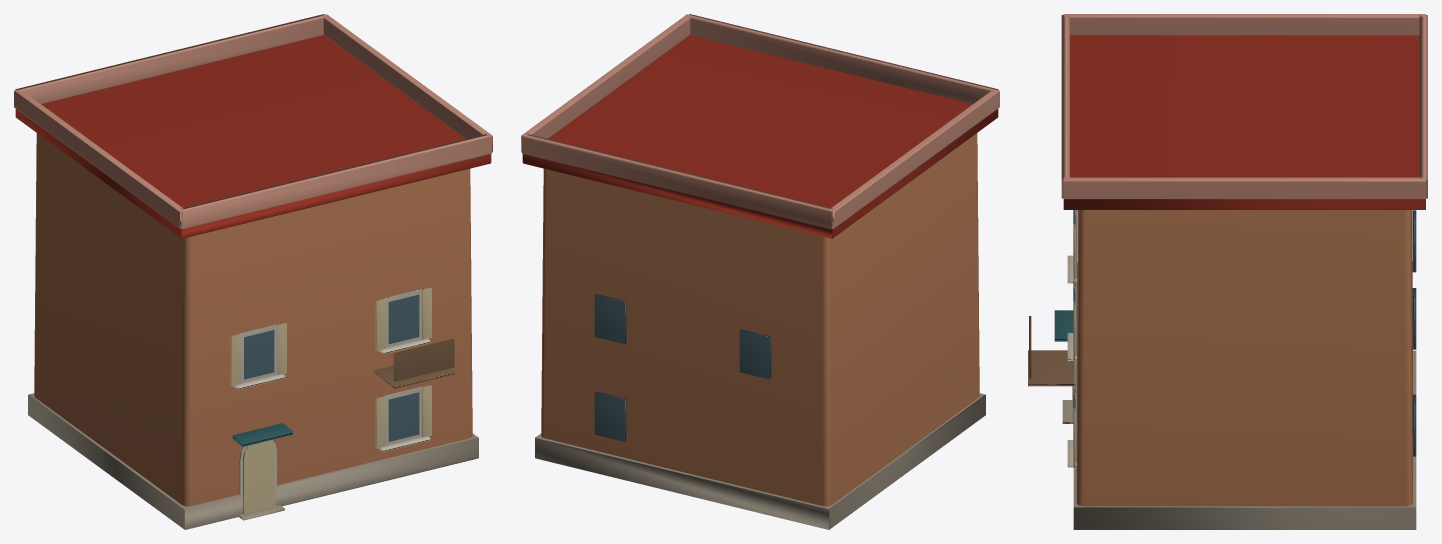
Rendered from house_11.glb.
3 views of the same model, side by side, from view 1: azimuth 30°, elevation 25°; view 2: azimuth 150°, elevation 25°; view 3: azimuth 270°, elevation 25° (orthographic). The views are drawn at different scales.
Visible parts, largest first — view 1: house_11; view 2: house_11; view 3: house_11.
Boxes of the visible parts, bbox=[...] form: house_11: bbox=[14, 14, 492, 529]; house_11: bbox=[521, 14, 999, 529]; house_11: bbox=[1028, 14, 1427, 529].
Size of the model in its own units: 9.4 by 9.34 by 9.5.
